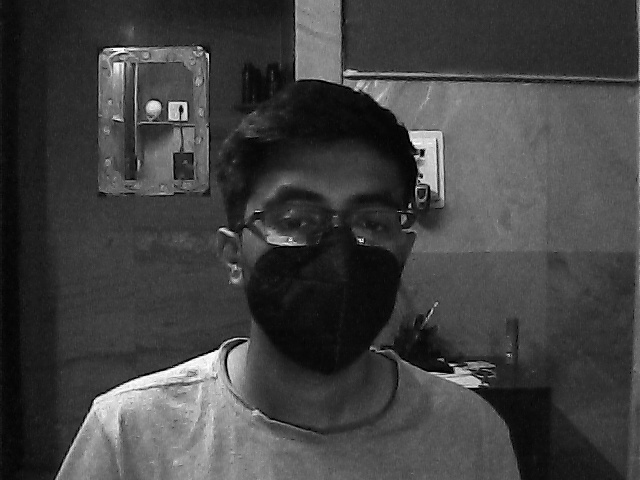mask: (238, 173, 415, 377)
